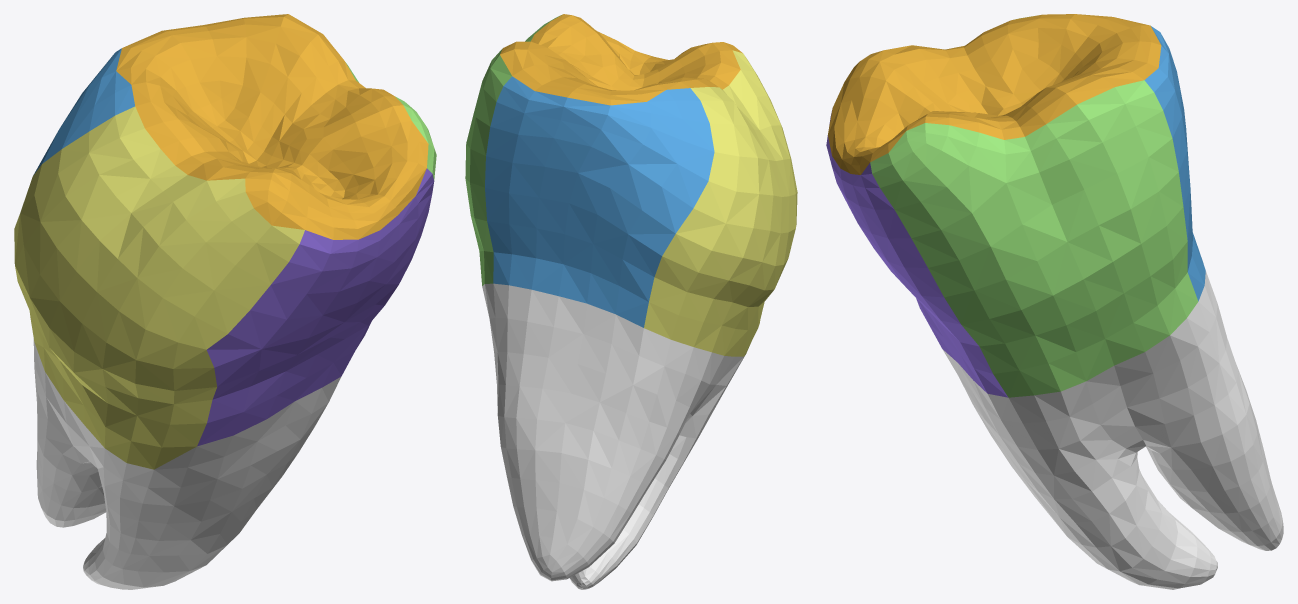
File: tooth_48_annotated.glb
3 views of the same model, side by side, from view 1: azimuth 30°, elevation 25°; view 2: azimuth 150°, elevation 25°; view 3: azimuth 270°, elevation 25° (orthographic). The views are drawn at different scales.
Parts seen in each view (by area): view 1: FDI_48; view 2: FDI_48; view 3: FDI_48.
Boxes of the visible parts, x1,y1,x2,y2 form: FDI_48: (14,14,436,589); FDI_48: (465,14,797,589); FDI_48: (826,14,1283,589).
Size of the model in its own units: 0.00939 by 0.0148 by 0.0108.
